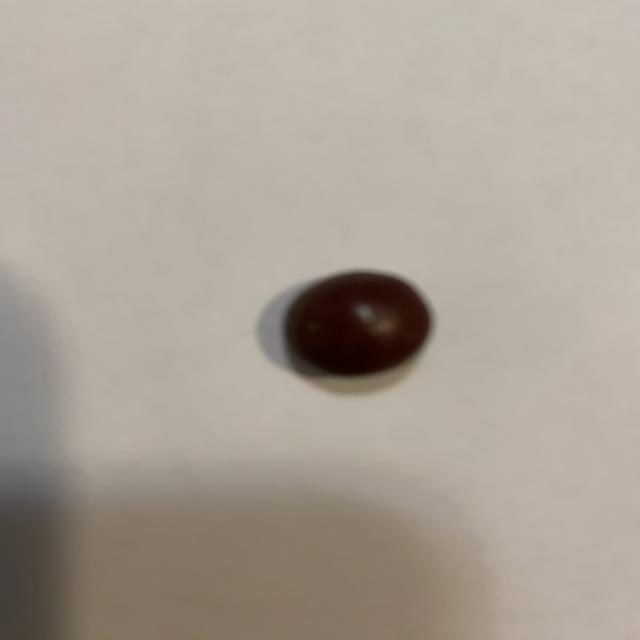smartie: (285, 272, 430, 375)
